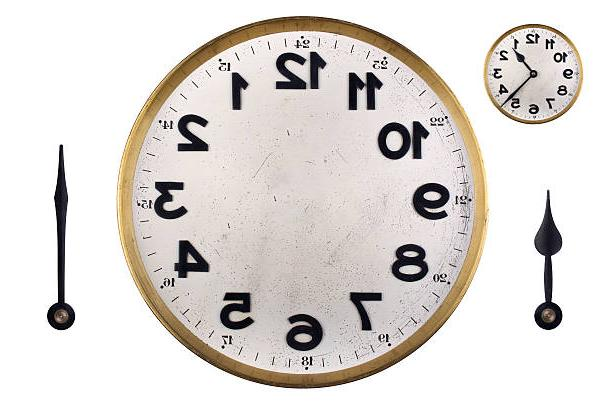clock: (119, 20, 489, 387), (482, 27, 583, 124)
